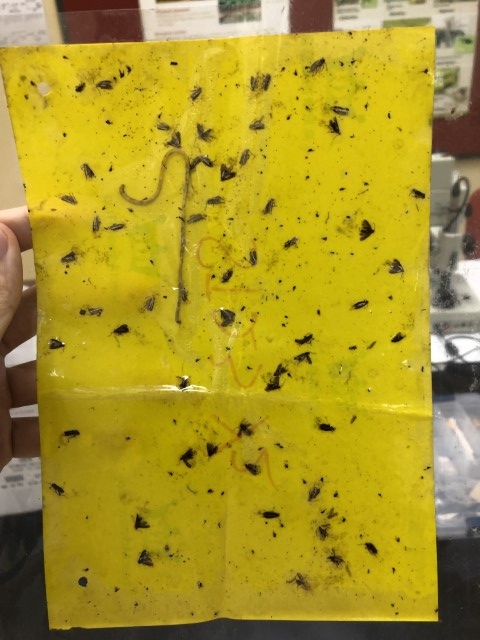DBM: (290, 349, 317, 369), (217, 161, 239, 184), (188, 152, 214, 171), (135, 548, 156, 569), (215, 307, 237, 327), (263, 375, 287, 393), (359, 217, 376, 242), (236, 146, 252, 171), (280, 233, 301, 252), (187, 82, 205, 104), (165, 129, 184, 149), (78, 160, 96, 181), (130, 513, 151, 531), (186, 211, 211, 226), (246, 117, 268, 134), (260, 196, 278, 216), (109, 323, 131, 339), (350, 297, 371, 313), (388, 257, 405, 276), (94, 77, 114, 93), (62, 428, 82, 444), (45, 337, 66, 352), (317, 420, 337, 435), (329, 103, 350, 117), (143, 294, 158, 313), (306, 485, 321, 504), (271, 362, 288, 378), (60, 192, 79, 206), (107, 221, 129, 233), (246, 74, 260, 92), (60, 250, 78, 264), (247, 247, 258, 269), (90, 214, 102, 234), (261, 508, 279, 520), (154, 120, 171, 132), (89, 306, 103, 319), (180, 289, 190, 304)
Other: (304, 54, 332, 79), (232, 417, 258, 440), (178, 446, 197, 469), (326, 549, 346, 570), (289, 572, 311, 591), (241, 460, 263, 478), (315, 522, 332, 543), (202, 443, 222, 460), (387, 329, 408, 344), (218, 267, 235, 285), (118, 64, 135, 81), (71, 80, 88, 95), (408, 187, 426, 199), (170, 60, 179, 66)
